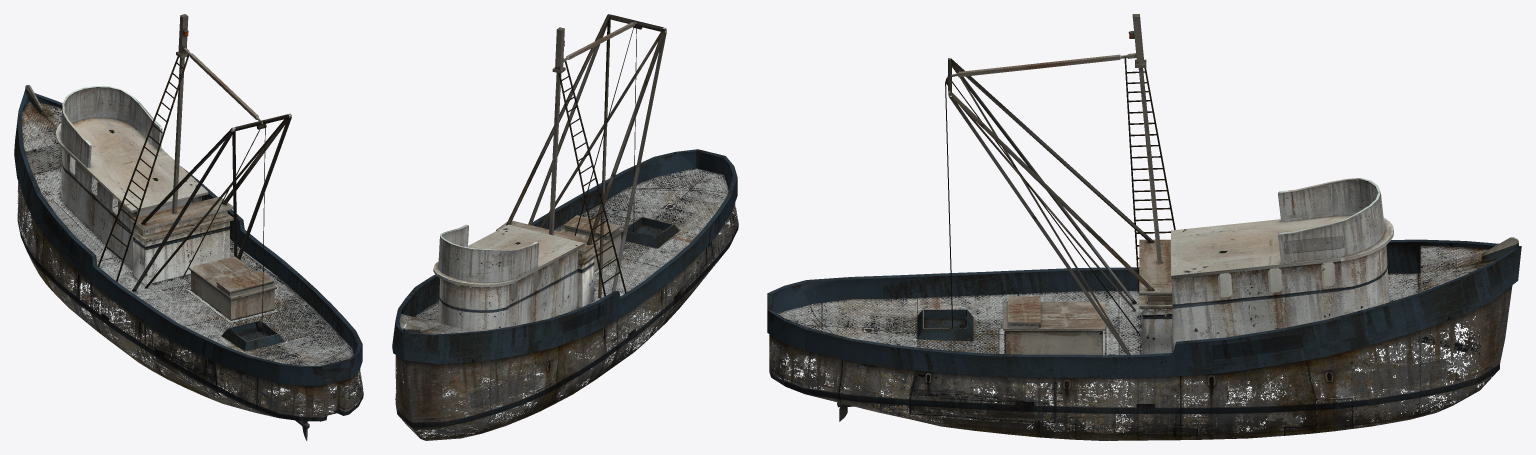
Rendered from barco.dae.
3 renders of one model, left to right at view 1: azimuth 30°, elevation 25°; view 2: azimuth 150°, elevation 25°; view 3: azimuth 270°, elevation 25°, orthographic. The views are drawn at different scales.
Parts seen in each view (by area): view 1: smdimport; view 2: smdimport; view 3: smdimport.
Boxes of the visible parts, x1,y1,x2,y2 form: smdimport: (14,14,363,440); smdimport: (392,14,738,440); smdimport: (767,14,1521,440).
Bounding box in the file's own units: 5.12 × 18.14 × 10.78.
